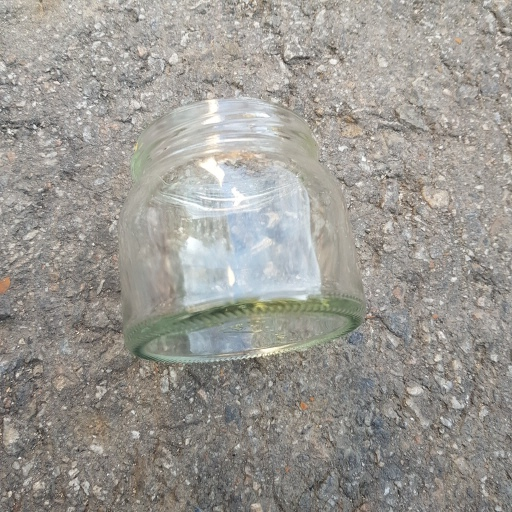Glass_5: (112, 94, 366, 364)
